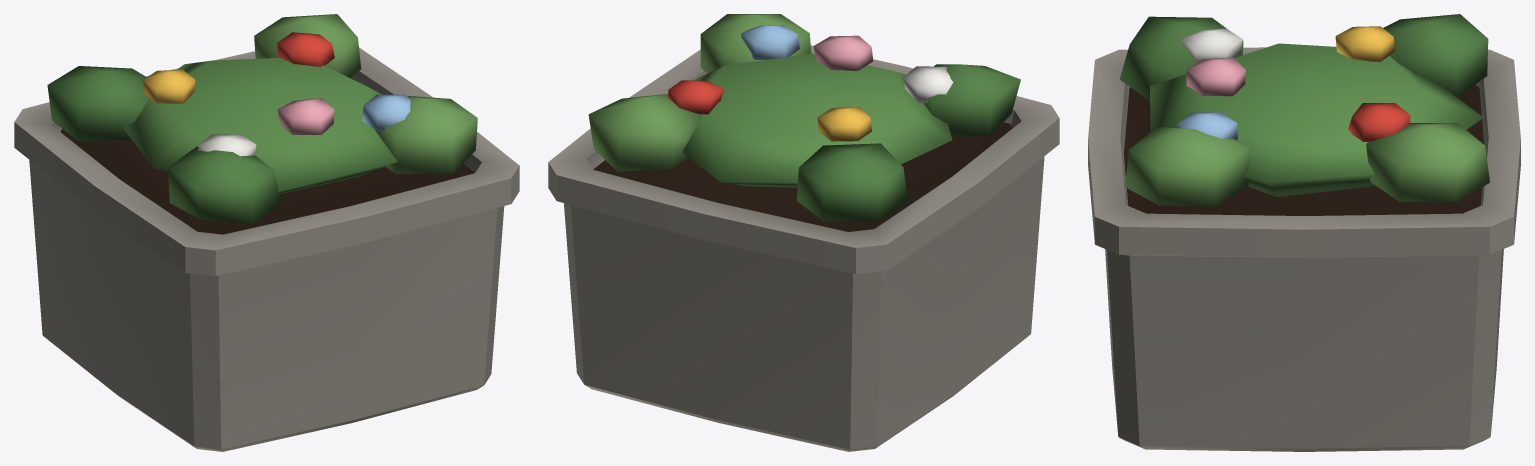
The model's file is flowerTub.far.glb.
3 renders of one model, left to right at view 1: azimuth 30°, elevation 25°; view 2: azimuth 150°, elevation 25°; view 3: azimuth 270°, elevation 25°, orthographic. The views are drawn at different scales.
Visible parts, largest first — view 1: flowerTub; view 2: flowerTub; view 3: flowerTub.
Boxes of the visible parts, x1,y1,x2,y2 form: flowerTub: (14,14,519,451); flowerTub: (548,14,1059,451); flowerTub: (1088,14,1520,451).
Size of the model in its own units: 0.7 by 0.5586 by 0.7.
